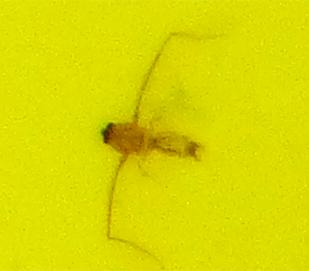Ephemeroptera: (100, 100, 209, 171)
